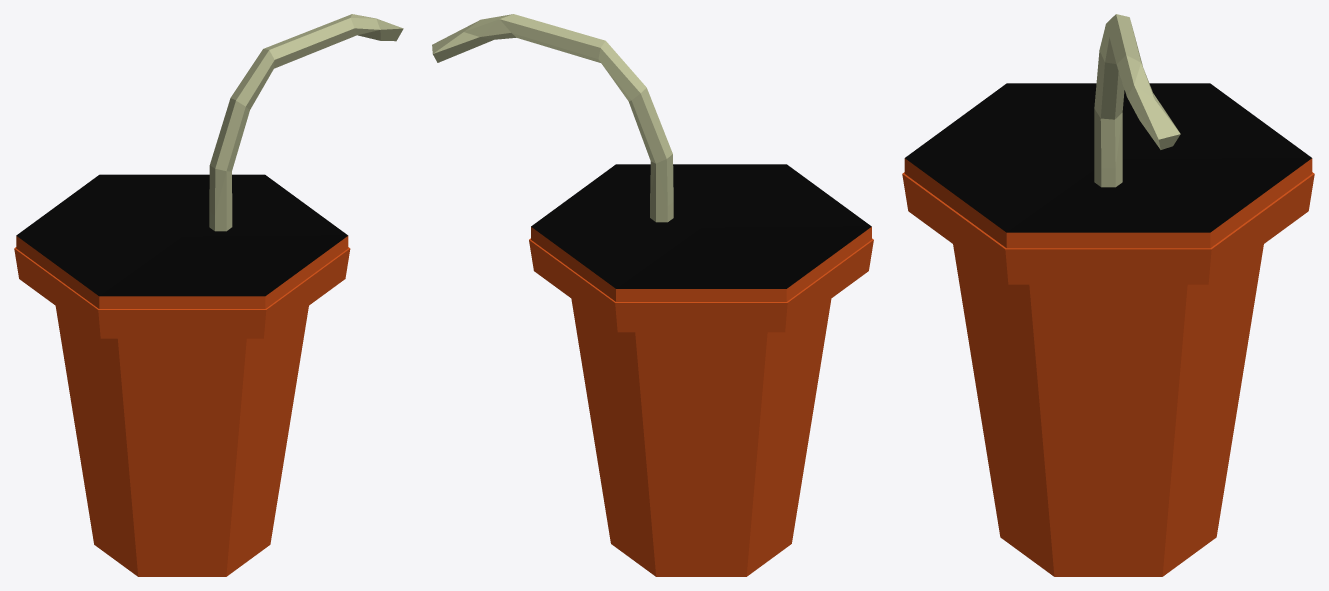
Rendered from soda.fbx.
The picture shows the model from 3 angles, left to right: view 1: azimuth 30°, elevation 25°; view 2: azimuth 150°, elevation 25°; view 3: azimuth 270°, elevation 25°; orthographic projection. The views are drawn at different scales.
Parts seen in each view (by area): view 1: Cylinder, Cylinder.001; view 2: Cylinder, Cylinder.001; view 3: Cylinder, Cylinder.001.
Part boxes in pixels (x1,y1,x2,y2): Cylinder: [14, 174, 350, 576]; Cylinder.001: [209, 14, 403, 231]; Cylinder: [529, 164, 873, 576]; Cylinder.001: [432, 14, 673, 222]; Cylinder: [902, 83, 1314, 576]; Cylinder.001: [1094, 14, 1180, 187].
Size of the model in its own units: 482 by 599 by 381.
